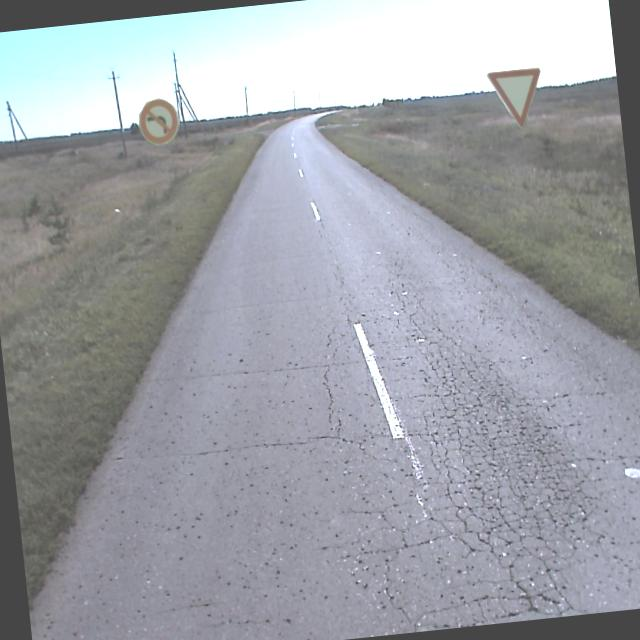road: (29, 110, 640, 640)
